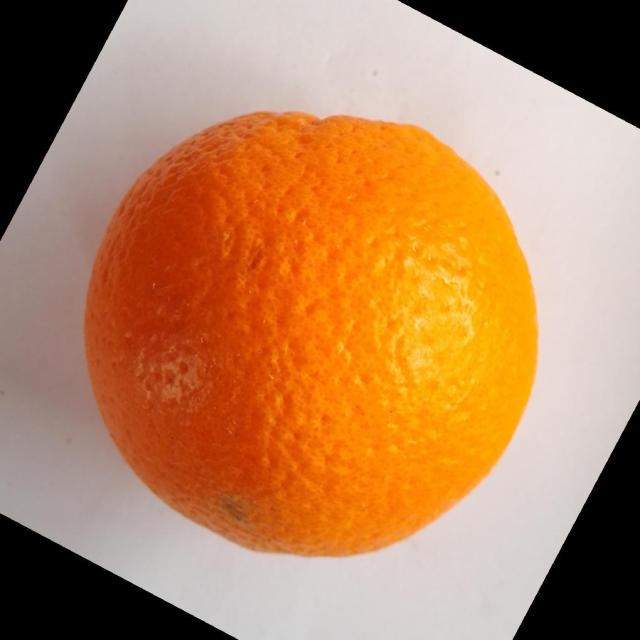agrume: (82, 108, 540, 558)
